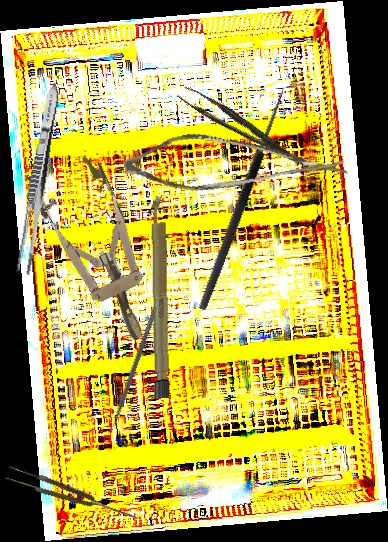Dressing Forceps: (14, 81, 64, 278)
Hook Surgical: (186, 82, 289, 312)
Micro Scissor: (120, 105, 349, 216)
Scalpel Handle: (150, 195, 171, 399)
Spatula Surgical: (105, 303, 159, 432)
Speculum: (19, 146, 174, 357)
Tissue Forceps: (176, 78, 304, 179), (4, 463, 139, 527)
